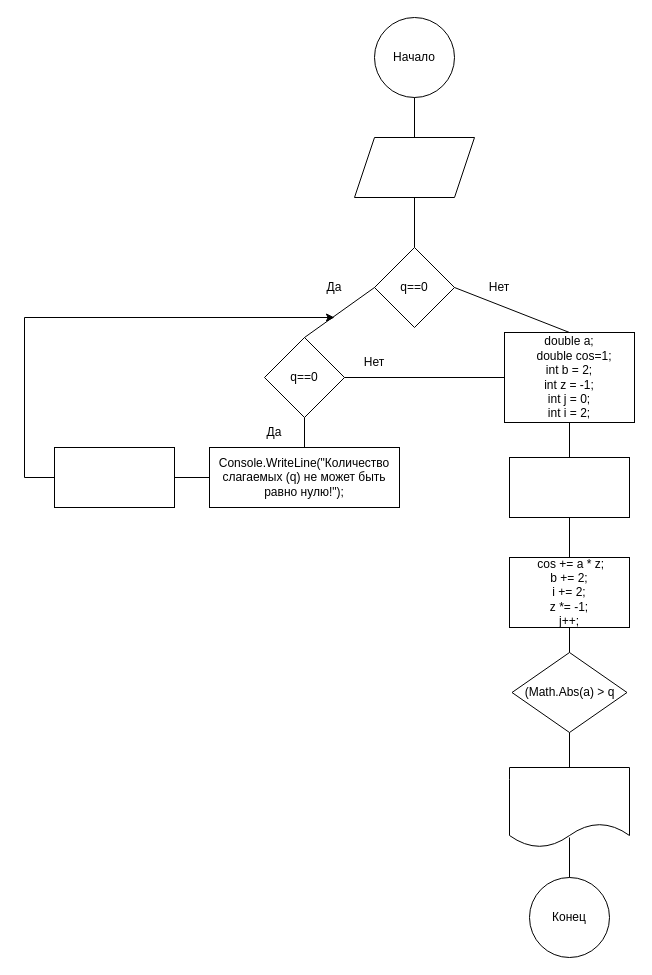
Image size: 652x975. Some labels were removed from this diagram. Here are the shapes that lost their labels. From the top down, the box of each, then its label:
(354, 136, 474, 198): x,q
(54, 446, 174, 508): q=int.Parse (Console.ReadLine());
(508, 456, 630, 518): a = (Math.Pow(x, b) / F(i))
(508, 766, 630, 848): x, Количество слагаемых
